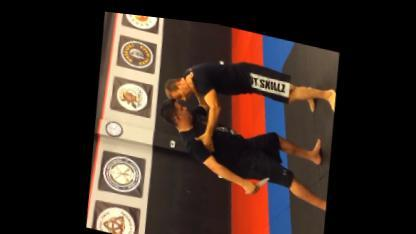knife: (240, 164, 271, 196)
